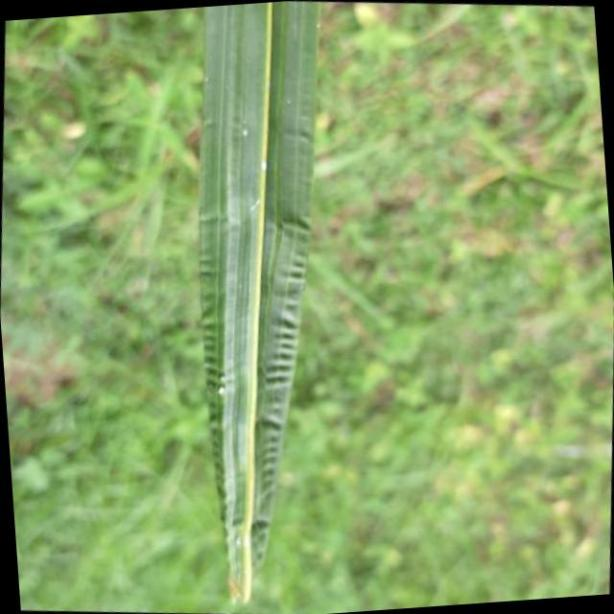Boron: (198, 2, 323, 606)
